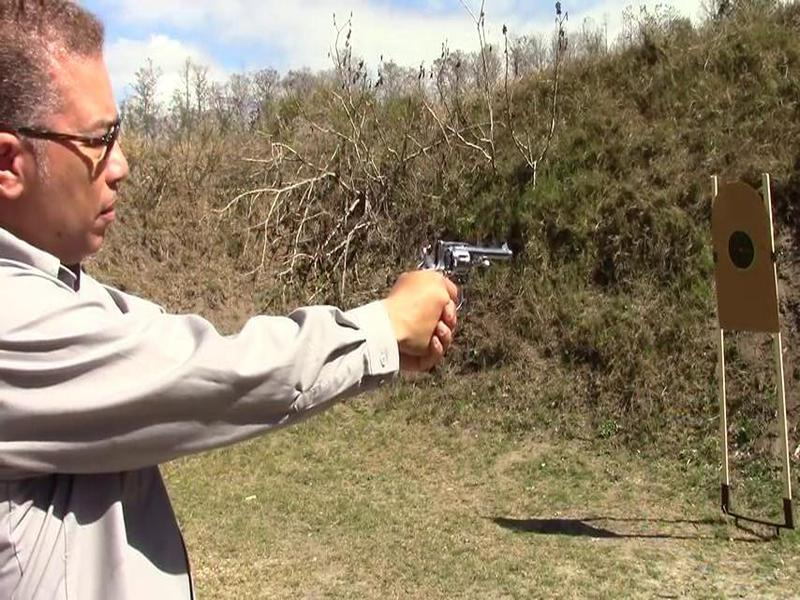Revolver: (417, 224, 527, 321)
